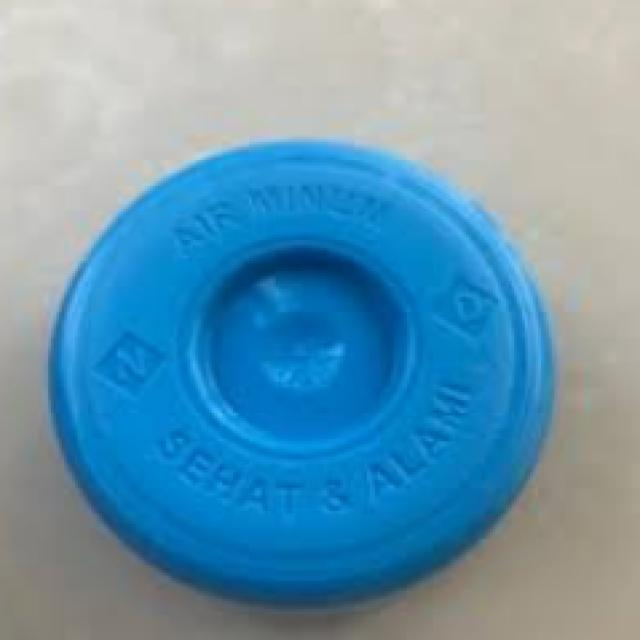TutupGalon: (43, 134, 557, 612)
